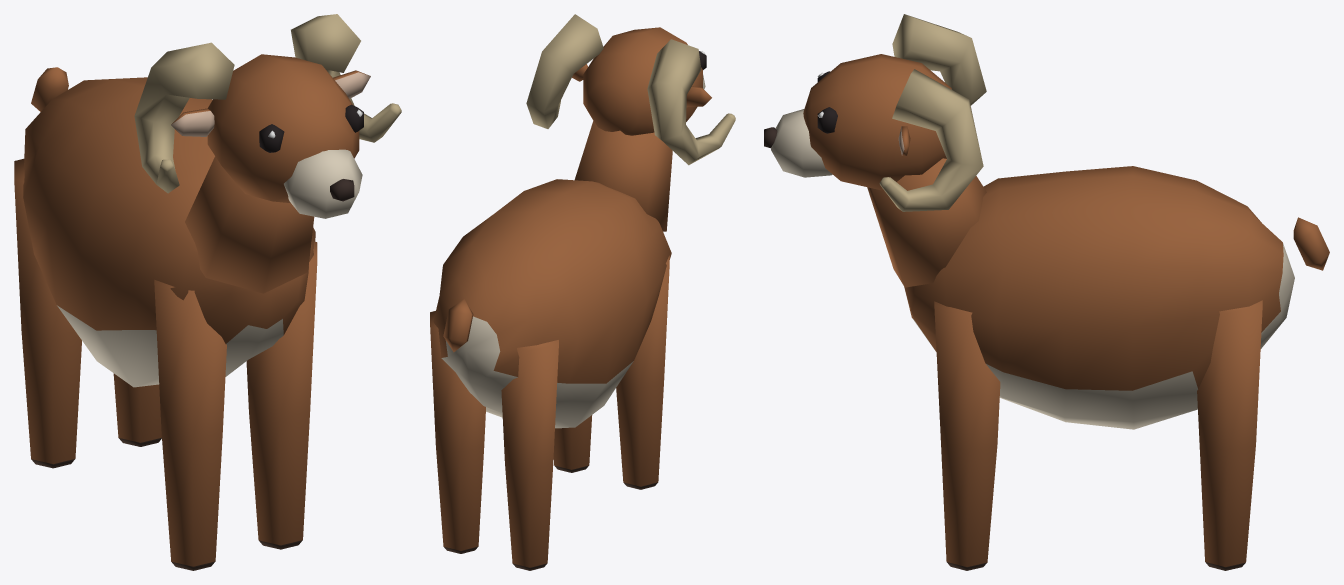
The model's file is wild_sheep.glb.
3 views of the same model, side by side, from view 1: azimuth 30°, elevation 25°; view 2: azimuth 150°, elevation 25°; view 3: azimuth 270°, elevation 25° (orthographic). The views are drawn at different scales.
Visible parts, largest first — view 1: body, head, leg_fr, leg_fl, leg_br, leg_bl, tail, head_body_nh; view 2: body, head, leg_br, leg_bl, leg_fr, leg_fl, tail; view 3: body, head, leg_bl, leg_fl, tail.
Part boxes in pixels (x1,y1,x2,y2): body: [23, 77, 315, 387]; head: [134, 14, 401, 293]; leg_fr: [154, 279, 226, 570]; leg_fl: [246, 241, 317, 549]; leg_br: [14, 158, 81, 468]; leg_bl: [113, 373, 161, 446]; tail: [31, 67, 68, 111]; head_body_nh: [259, 104, 363, 152]; body: [433, 179, 671, 428]; head: [526, 14, 735, 231]; leg_br: [501, 340, 558, 570]; leg_bl: [430, 311, 485, 553]; leg_fr: [616, 255, 669, 489]; leg_fl: [553, 415, 592, 472]; tail: [443, 299, 473, 352]; body: [904, 166, 1294, 429]; head: [764, 14, 986, 287]; leg_bl: [1197, 300, 1262, 570]; leg_fl: [934, 301, 1000, 570]; tail: [1293, 217, 1329, 270].
Bounding box in the file's own units: 0.4936 × 1.08 × 1.09.
